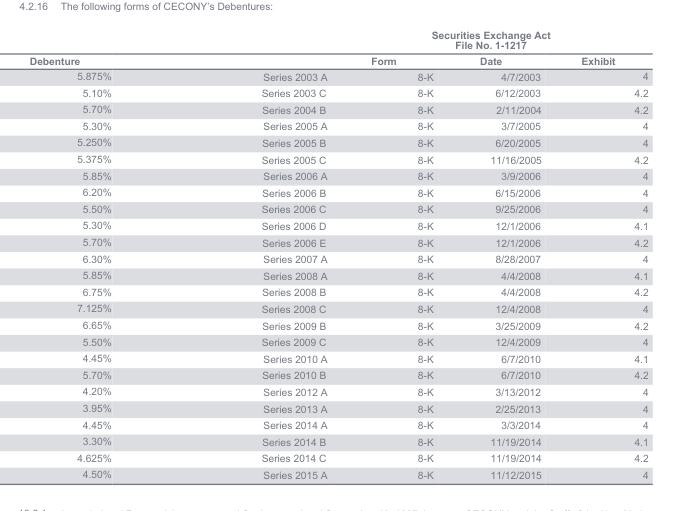table: (28, 28, 647, 480)
table column: (185, 28, 348, 480), (28, 28, 185, 480), (348, 28, 455, 480), (455, 28, 560, 480), (560, 28, 647, 480)
table column header: (28, 28, 647, 83)
table row: (28, 52, 647, 83), (28, 28, 647, 52), (28, 83, 647, 100), (28, 100, 647, 117), (28, 133, 647, 150), (28, 166, 647, 183), (28, 183, 647, 200), (28, 216, 647, 233), (28, 233, 647, 250), (28, 266, 647, 283), (28, 299, 647, 316), (28, 316, 647, 333), (28, 349, 647, 366), (28, 382, 647, 399), (28, 399, 647, 416), (28, 432, 647, 449), (28, 117, 647, 133), (28, 150, 647, 166), (28, 200, 647, 216), (28, 250, 647, 266), (28, 283, 647, 299), (28, 333, 647, 349), (28, 366, 647, 382), (28, 416, 647, 432), (28, 449, 647, 465), (28, 465, 647, 480)
table spanning cell: (185, 28, 348, 83), (28, 28, 185, 83), (348, 28, 647, 52)
